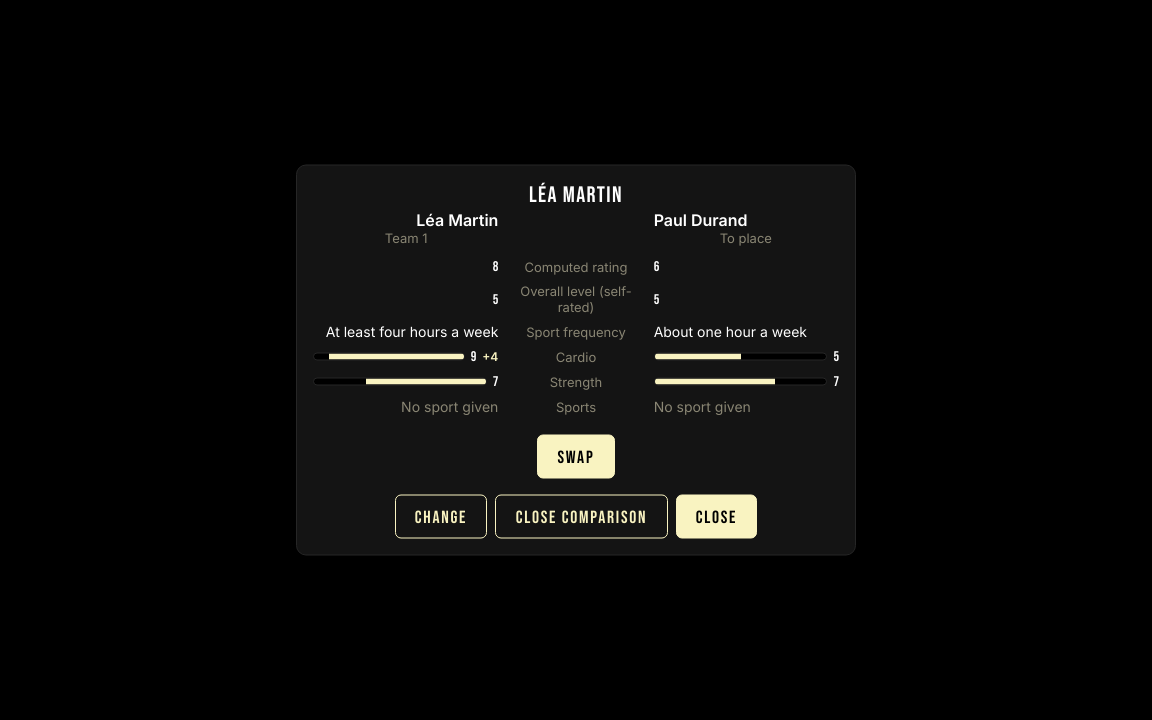
Test: PlayerSheet › compare › goes back to the picker and closes the comparison
The width and height of the screenshot is (1152, 720).
Click the button "Close comparison": (582, 516) 496,494 -> 668,538
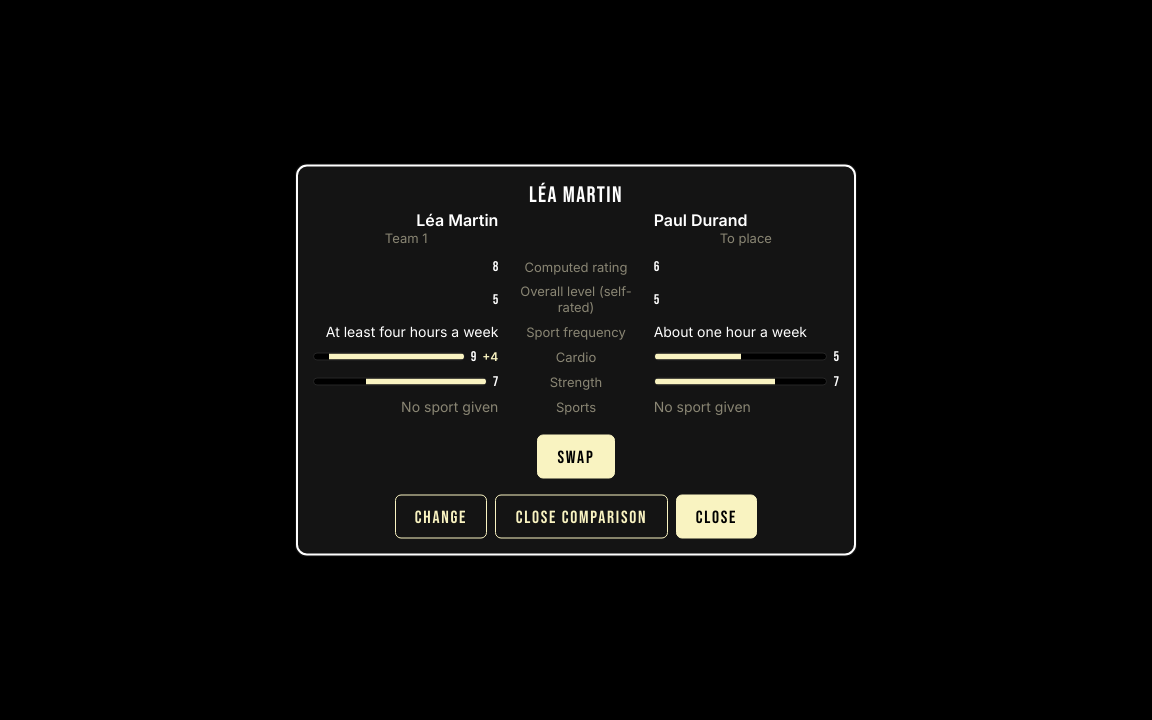
Click the button "Change": (441, 516) 394,494 -> 487,538
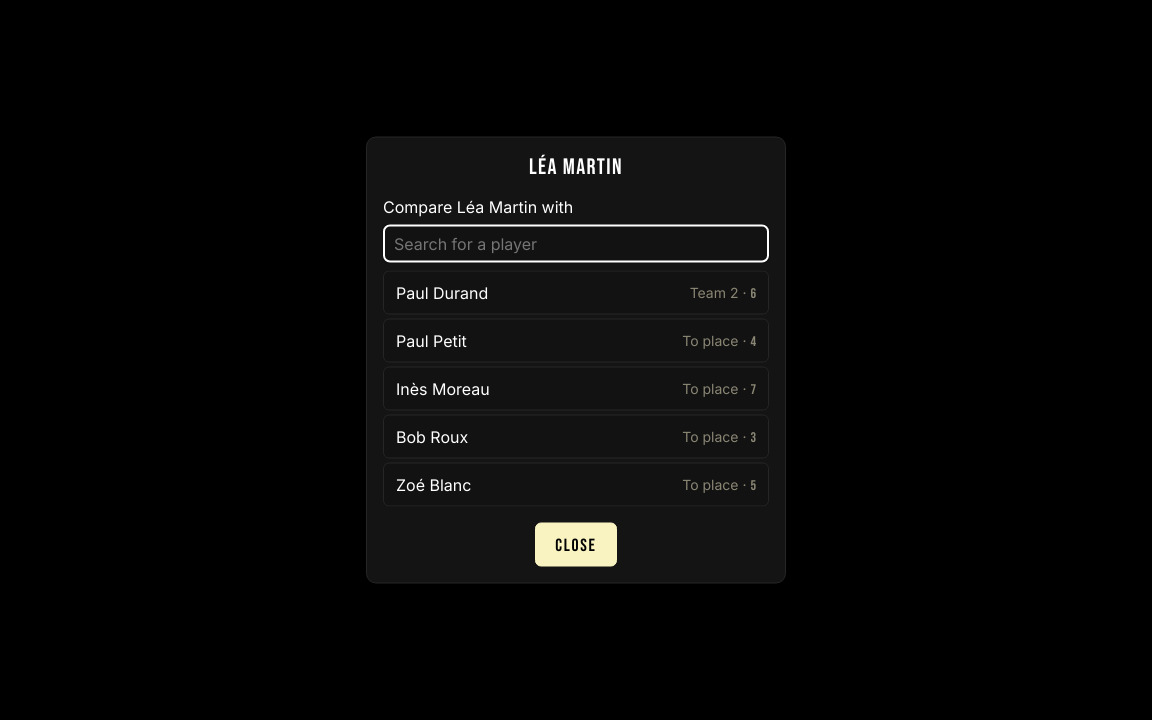
Expected: the search field is shown, 383,224 -> 769,262
